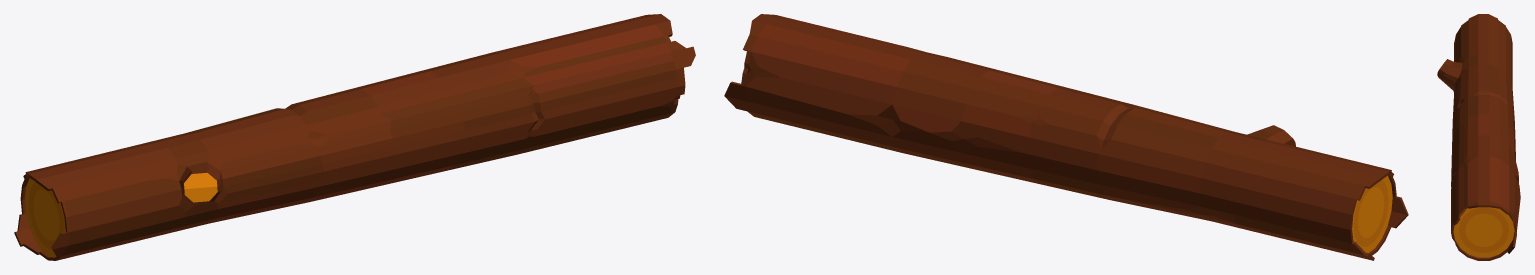
The model's file is Log_14.fbx.
The picture shows the model from 3 angles, left to right: view 1: azimuth 30°, elevation 25°; view 2: azimuth 150°, elevation 25°; view 3: azimuth 270°, elevation 25°; orthographic projection. The views are drawn at different scales.
Parts seen in each view (by area): view 1: Circle.392; view 2: Circle.392; view 3: Circle.392.
Part boxes in pixels (x1=…): Circle.392: x1=14, y1=14, x2=695, y2=260; Circle.392: x1=724, y1=14, x2=1408, y2=260; Circle.392: x1=1437, y1=14, x2=1520, y2=260.
Bounding box in the file's own units: 218 × 30.39 × 38.98.
